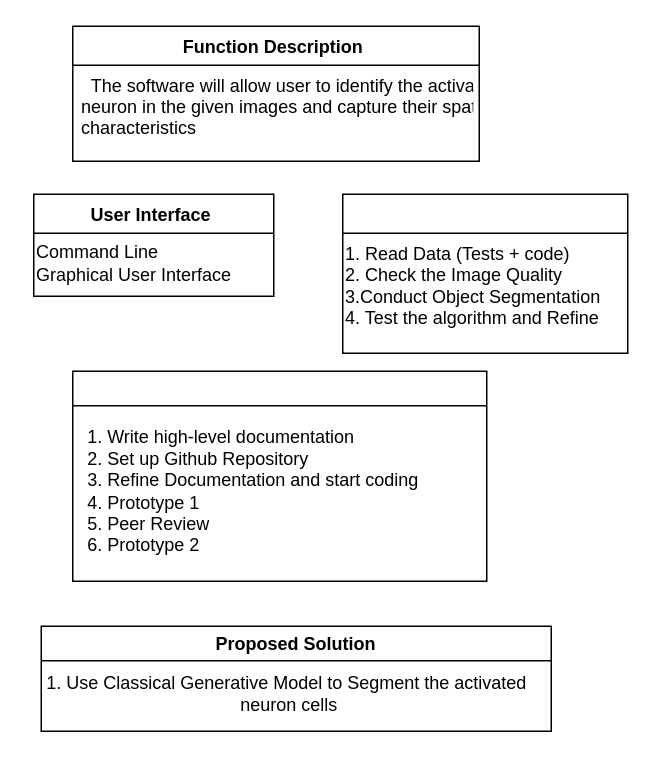
Some shapes in this 654 by 758 pixel diagram are drawn without their labels. The box of each missing label's shape, as (x1, y1, x2, y2) in pixels:
Goals and milestones: (71, 370, 487, 581)
Prioritization: (341, 193, 628, 353)
